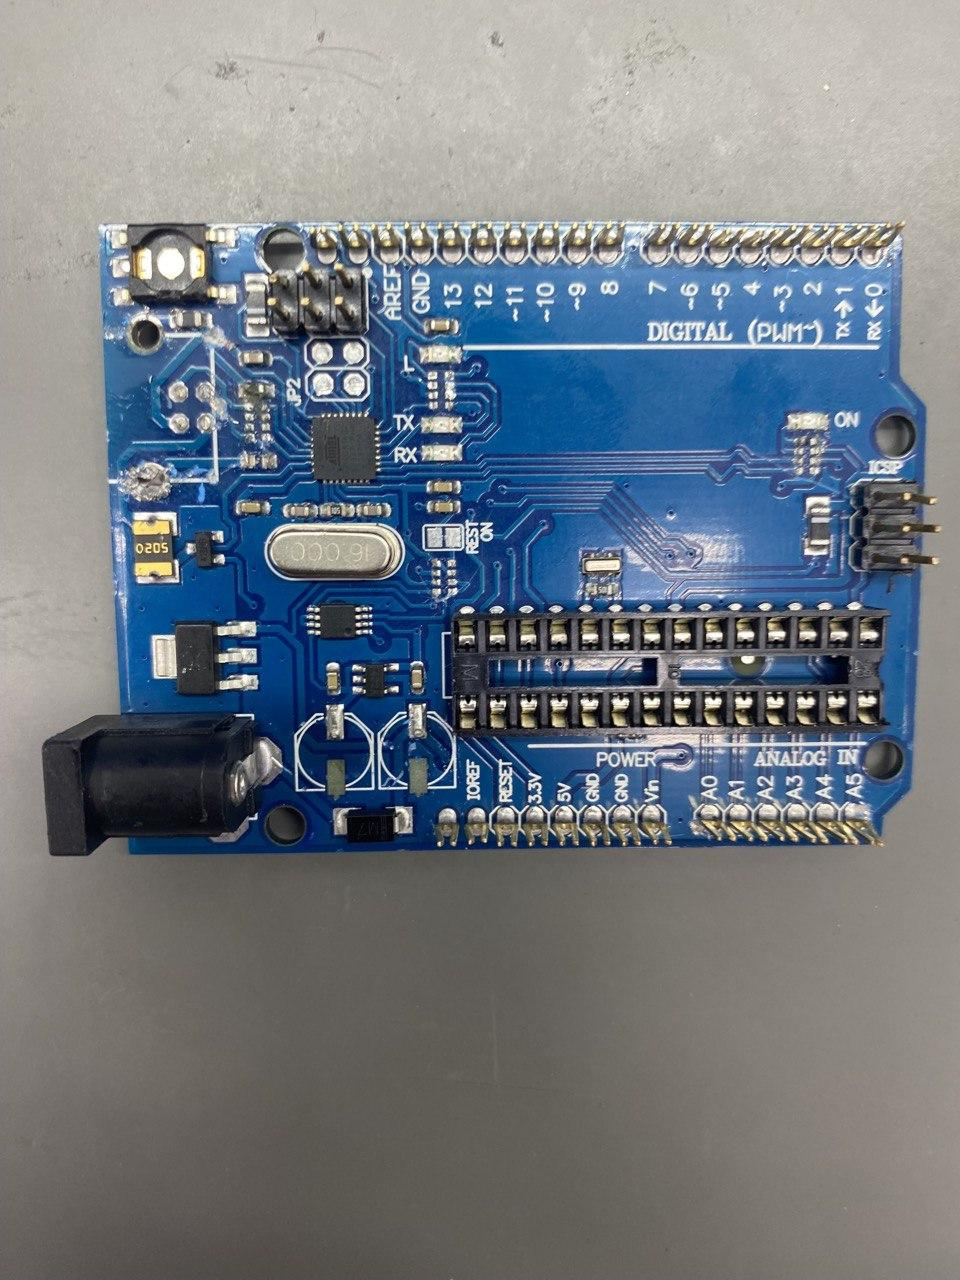Arduino board: (41, 221, 940, 857)
